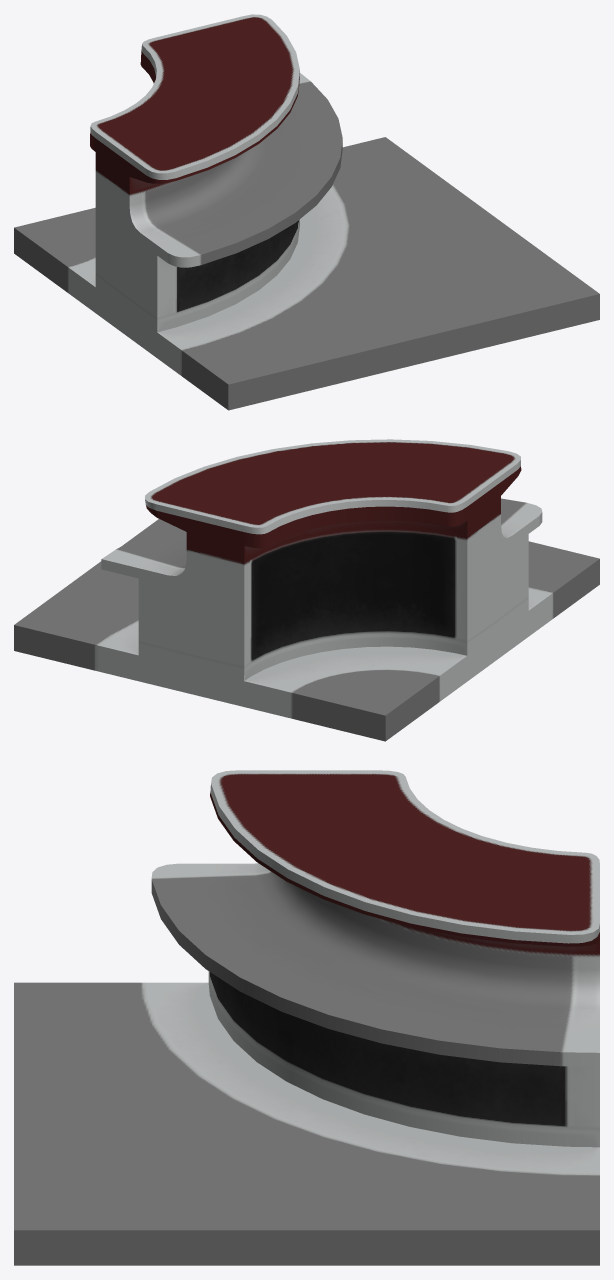
File: Room_Floor_Coner_A_B.FBX
3 views of the same model, one above another, from view 1: azimuth 30°, elevation 25°; view 2: azimuth 150°, elevation 25°; view 3: azimuth 270°, elevation 25° (orthographic). The views are drawn at different scales.
Parts seen in each view (by area): view 1: Room_Floor_Coner_A_B; view 2: Room_Floor_Coner_A_B; view 3: Room_Floor_Coner_A_B.
Boxes of the visible parts, x1,y1,x2,y2 form: Room_Floor_Coner_A_B: (14,14,599,410); Room_Floor_Coner_A_B: (14,439,599,741); Room_Floor_Coner_A_B: (14,770,599,1265).
Bounding box in the file's own units: 300 × 140 × 300.
1 material, 1 textured.
